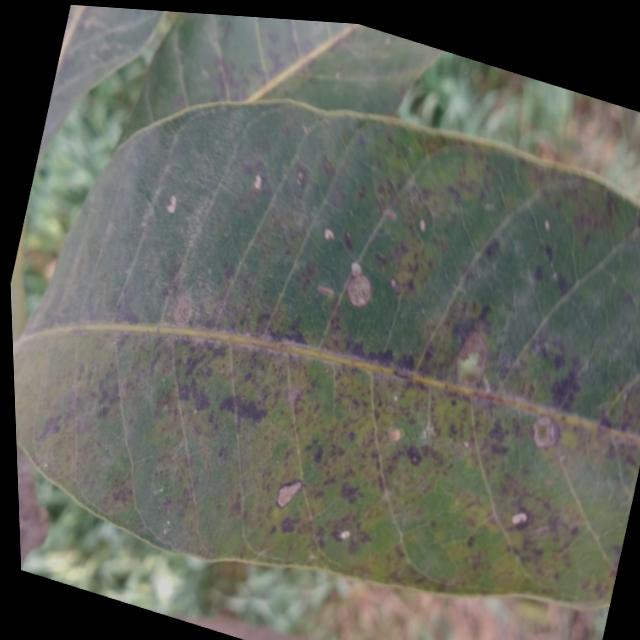Bacterial Cancer: (255, 463, 312, 535), (330, 253, 381, 308), (522, 407, 564, 458)
Powdery Mildew: (506, 507, 532, 534)
black die: (212, 388, 275, 430), (86, 359, 127, 423), (543, 373, 579, 412), (475, 232, 504, 269), (335, 480, 364, 511)
